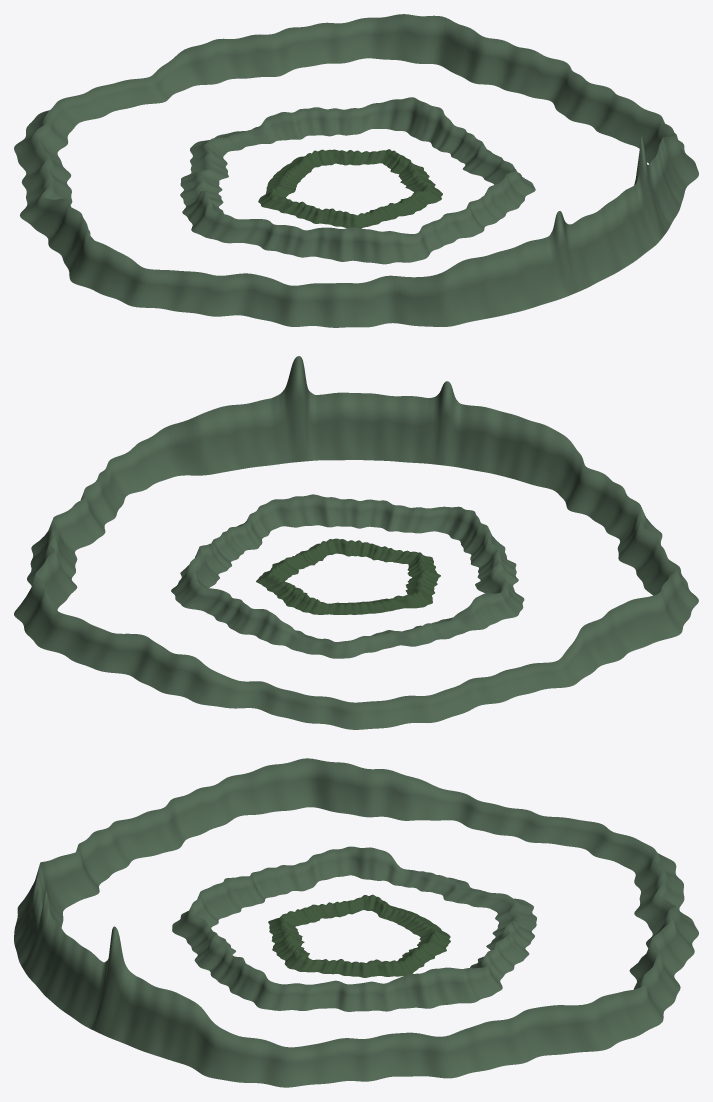
The model's file is principe_ridges.glb.
3 renders of one model, top to bottom at view 1: azimuth 30°, elevation 25°; view 2: azimuth 150°, elevation 25°; view 3: azimuth 270°, elevation 25°, orthographic. The views are drawn at different scales.
Visible parts, largest first — view 1: principe_ridges_far, principe_ridges_mid, principe_ridges_near; view 2: principe_ridges_far, principe_ridges_mid, principe_ridges_near; view 3: principe_ridges_far, principe_ridges_mid, principe_ridges_near.
Part boxes in pixels (left/top/right/bottom): principe_ridges_far: left=14, top=14, right=698, bottom=327; principe_ridges_mid: left=180, top=97, right=535, bottom=264; principe_ridges_near: left=258, top=149, right=442, bottom=228; principe_ridges_far: left=14, top=356, right=698, bottom=729; principe_ridges_mid: left=171, top=494, right=524, bottom=658; principe_ridges_near: left=256, top=538, right=440, bottom=614; principe_ridges_far: left=14, top=758, right=698, bottom=1087; principe_ridges_mid: left=172, top=846, right=536, bottom=1011; principe_ridges_near: left=268, top=894, right=450, bottom=977.
Size of the model in its own units: 1042 by 161 by 1007.
